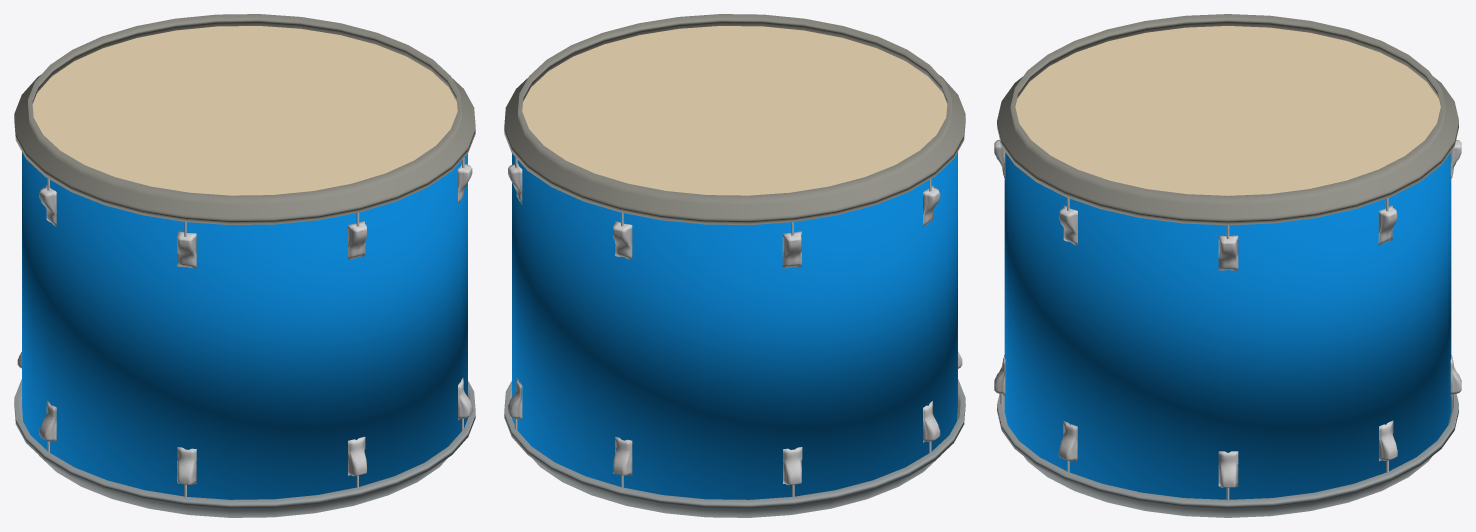
File: tomRouge.fbx
The picture shows the model from 3 angles, left to right: view 1: azimuth 30°, elevation 25°; view 2: azimuth 150°, elevation 25°; view 3: azimuth 270°, elevation 25°; orthographic projection.
Visible parts, largest first — view 1: WoodFrame, Circle, MetalFrameUp, MetalFrameDown, Bidule_012, Bidule_006, Bidule_010, Bidule_002, Bidule_008; view 2: WoodFrame, Circle, MetalFrameUp, MetalFrameDown, Bidule_005, Bidule_015, Bidule_011, Bidule_003; view 3: WoodFrame, Circle, MetalFrameUp, MetalFrameDown, Bidule_009, Bidule, Bidule_014, Bidule_013, Bidule_007, Bidule_004.
Part boxes in pixels (bbox=[...]): WoodFrame: bbox=[22, 152, 467, 499]; Circle: bbox=[32, 26, 457, 195]; MetalFrameUp: bbox=[14, 14, 475, 224]; MetalFrameDown: bbox=[14, 379, 475, 517]; Bidule_012: bbox=[177, 447, 196, 485]; Bidule_006: bbox=[177, 231, 196, 268]; Bidule_010: bbox=[348, 436, 366, 476]; Bidule_002: bbox=[348, 221, 366, 259]; Bidule_008: bbox=[39, 400, 56, 442]; WoodFrame: bbox=[512, 152, 957, 499]; Circle: bbox=[522, 26, 947, 195]; MetalFrameUp: bbox=[504, 14, 965, 224]; MetalFrameDown: bbox=[504, 379, 965, 517]; Bidule_005: bbox=[782, 231, 801, 268]; Bidule_015: bbox=[783, 447, 802, 485]; Bidule_011: bbox=[613, 436, 632, 475]; Bidule_003: bbox=[613, 221, 632, 259]; WoodFrame: bbox=[1004, 152, 1451, 499]; Circle: bbox=[1015, 26, 1440, 195]; MetalFrameUp: bbox=[997, 14, 1458, 225]; MetalFrameDown: bbox=[997, 394, 1458, 517]; Bidule_009: bbox=[1218, 451, 1238, 487]; Bidule: bbox=[1218, 235, 1238, 270]; Bidule_014: bbox=[1058, 421, 1077, 461]; Bidule_013: bbox=[1379, 420, 1397, 461]; Bidule_007: bbox=[1378, 205, 1397, 245]; Bidule_004: bbox=[1059, 205, 1077, 245].
Bounding box in the file's own units: 8.39 × 6.35 × 8.39.
